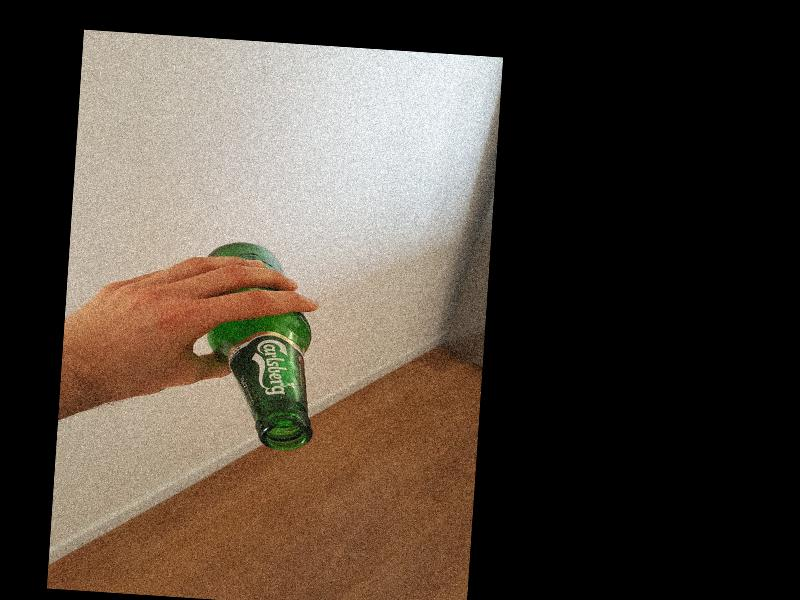Beer: (199, 241, 323, 452)
